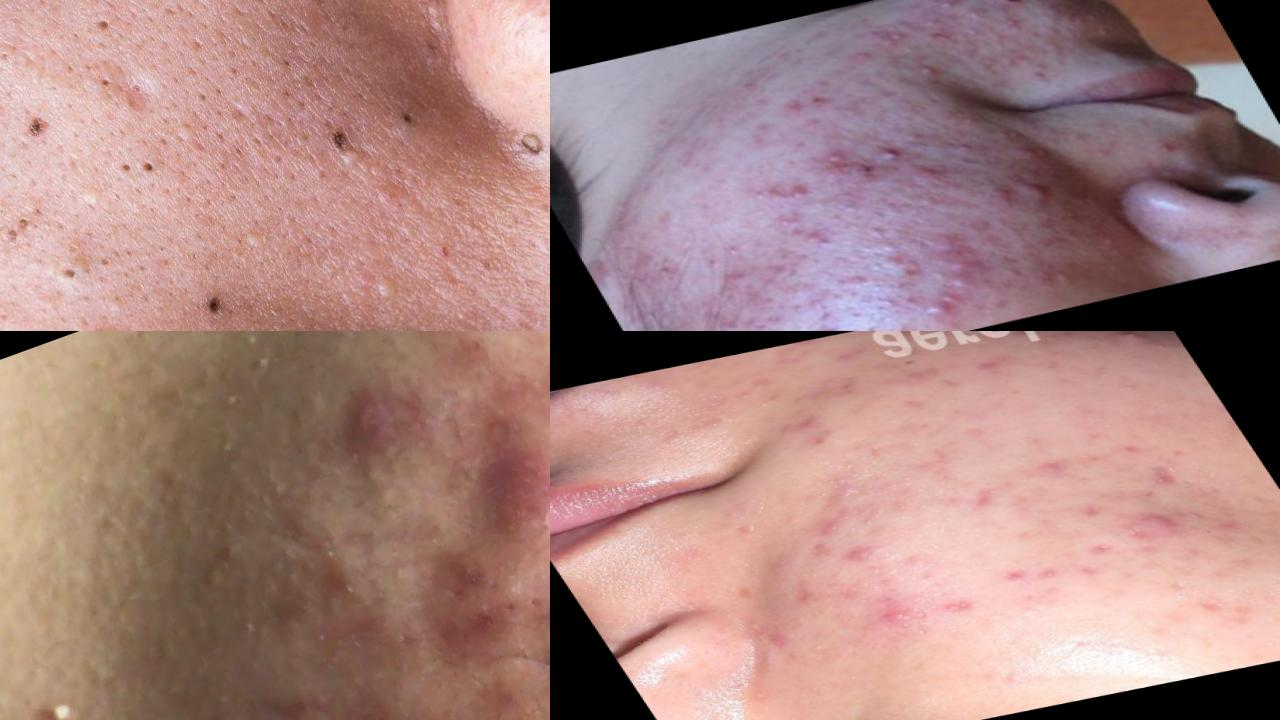acne_scars: (984, 533, 1136, 603), (1115, 449, 1221, 502), (1169, 581, 1268, 631), (1098, 427, 1178, 461), (949, 481, 1008, 521)
blackhead: (104, 138, 171, 201), (75, 1, 141, 59), (1, 194, 49, 253)
cystic: (461, 421, 551, 551), (1109, 494, 1201, 544), (1009, 166, 1068, 213)
flat_wart: (347, 245, 444, 327), (327, 127, 394, 204)
milium: (796, 639, 840, 669)
papular: (852, 586, 956, 645), (912, 229, 992, 291), (1014, 444, 1089, 491), (719, 266, 781, 311), (774, 214, 838, 257), (864, 135, 921, 173), (773, 90, 837, 121), (880, 250, 929, 287), (999, 45, 1055, 76), (910, 15, 962, 48), (918, 287, 967, 322), (790, 311, 870, 332), (893, 121, 942, 151), (859, 225, 906, 255), (936, 135, 983, 164), (830, 195, 871, 220), (836, 270, 872, 295)
purulent: (1132, 126, 1206, 169), (977, 115, 1042, 154), (900, 51, 966, 88), (904, 153, 958, 191), (1095, 332, 1173, 357), (989, 8, 1036, 36), (914, 1, 975, 17)
sebo-crystan-conglo: (212, 650, 433, 720), (434, 561, 551, 669), (812, 137, 887, 191), (850, 11, 925, 54), (754, 174, 819, 215)
whitehead: (723, 676, 795, 720)
